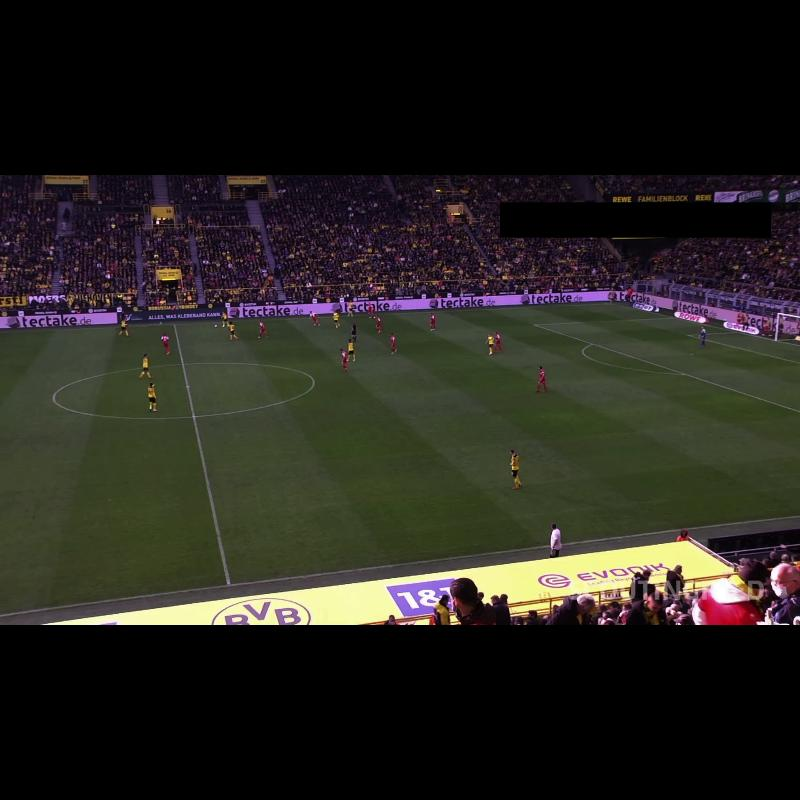cross_recipient_zone: (531, 318, 800, 411)
crossing_player_zone: (421, 303, 673, 327), (704, 426, 800, 483)
pitch: (0, 303, 800, 615)
